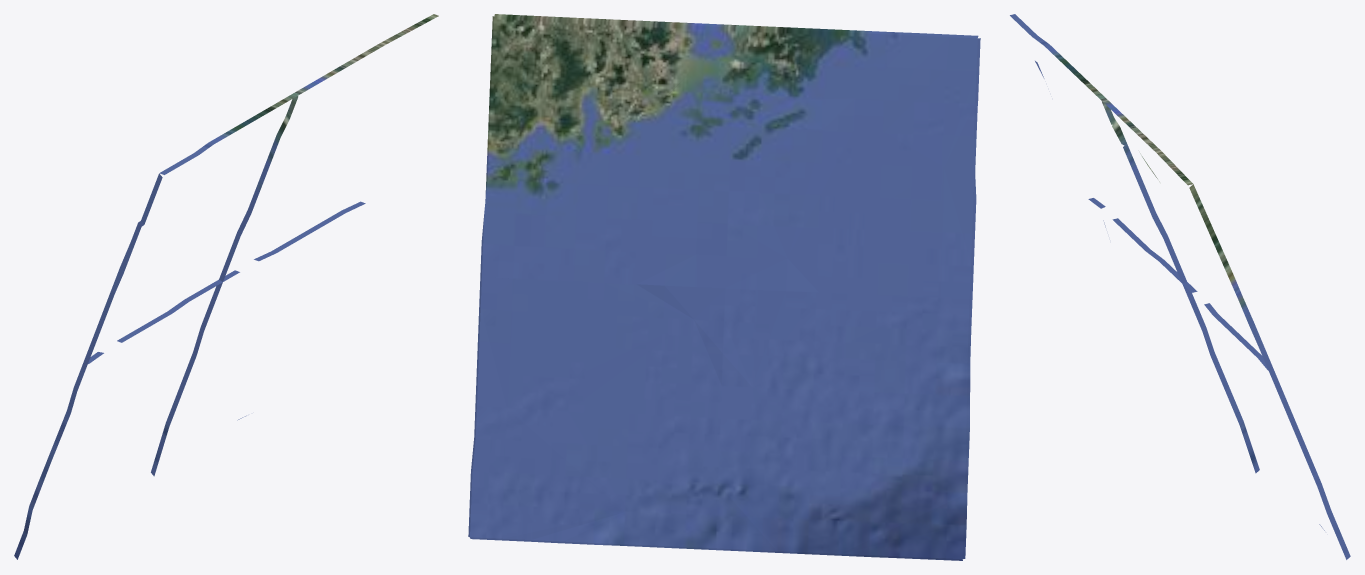
3 renders of one model, left to right at view 1: azimuth 30°, elevation 25°; view 2: azimuth 150°, elevation 25°; view 3: azimuth 270°, elevation 25°, orthographic. The views are drawn at different scales.
Bounding box in the file's own units: 315610 × 295713 × 225672.
1 material, 1 textured.
